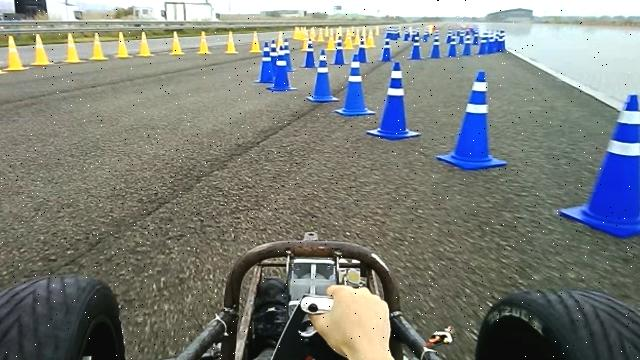blue cone: (559, 93, 640, 238), (436, 70, 508, 170), (366, 61, 422, 140), (335, 54, 376, 116), (306, 49, 340, 102), (266, 43, 294, 91), (254, 42, 275, 83)
yellow cone: (2, 35, 28, 71), (30, 33, 54, 66), (62, 32, 83, 63), (89, 32, 109, 60), (114, 31, 132, 58), (136, 31, 154, 57), (170, 30, 185, 55), (224, 30, 239, 55), (197, 30, 211, 54), (250, 30, 262, 53)
